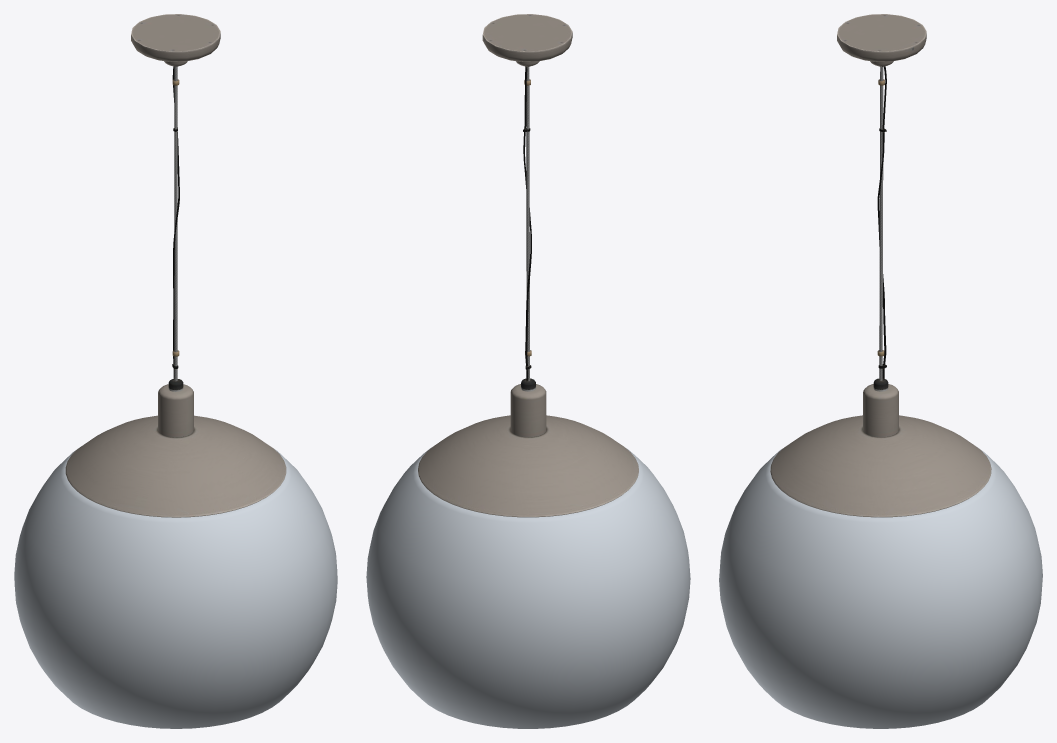
Rendered from modern_ceiling_lamp_01.glb.
3 views of the same model, side by side, from view 1: azimuth 30°, elevation 25°; view 2: azimuth 150°, elevation 25°; view 3: azimuth 270°, elevation 25° (orthographic).
Visible parts, largest first — view 1: modern_ceiling_lamp_01; view 2: modern_ceiling_lamp_01; view 3: modern_ceiling_lamp_01.
Boxes of the visible parts, x1,y1,x2,y2 form: modern_ceiling_lamp_01: [14, 14, 337, 728]; modern_ceiling_lamp_01: [366, 14, 690, 728]; modern_ceiling_lamp_01: [719, 14, 1042, 728].
Size of the model in its own units: 0.4316 by 0.9516 by 0.4317.
Materials: 3 (2 with a texture image).
